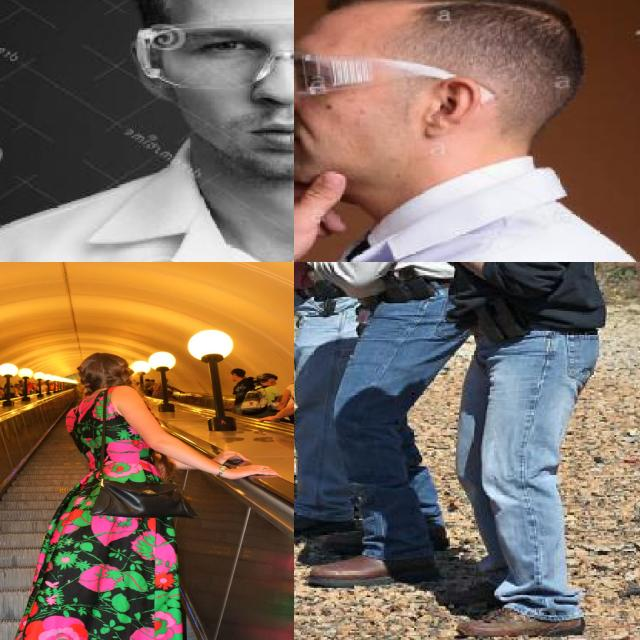No_Ear-Protection: (416, 68, 479, 148)
face_nomask: (182, 24, 294, 170), (294, 34, 350, 183)
glasses: (412, 262, 605, 640), (294, 262, 456, 576), (130, 17, 294, 91), (294, 46, 495, 106)
hand_noglove: (294, 131, 356, 260)
person: (294, 0, 640, 262), (0, 0, 294, 262)
shoes: (307, 545, 442, 598), (455, 595, 590, 640), (294, 502, 353, 539)
